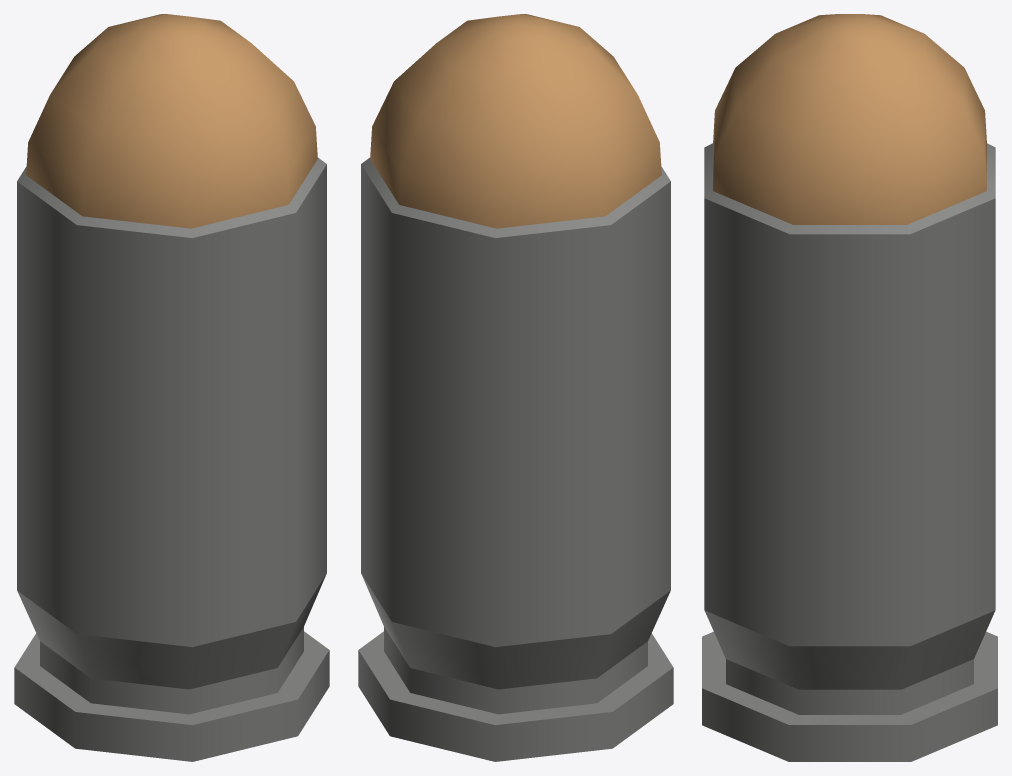
The model's file is SM_Bullet_07.fbx.
3 views of the same model, side by side, from view 1: azimuth 30°, elevation 25°; view 2: azimuth 150°, elevation 25°; view 3: azimuth 270°, elevation 25° (orthographic).
Visible parts, largest first — view 1: SM_Bullet_07; view 2: SM_Bullet_07; view 3: SM_Bullet_07.
Part boxes in pixels (<box>): SM_Bullet_07: <box>14,14,329,761</box>; SM_Bullet_07: <box>358,14,673,761</box>; SM_Bullet_07: <box>702,14,997,761</box>.
Size of the model in its own units: 3.44 by 8.67 by 3.44.
Materials: 1 (1 with a texture image).
